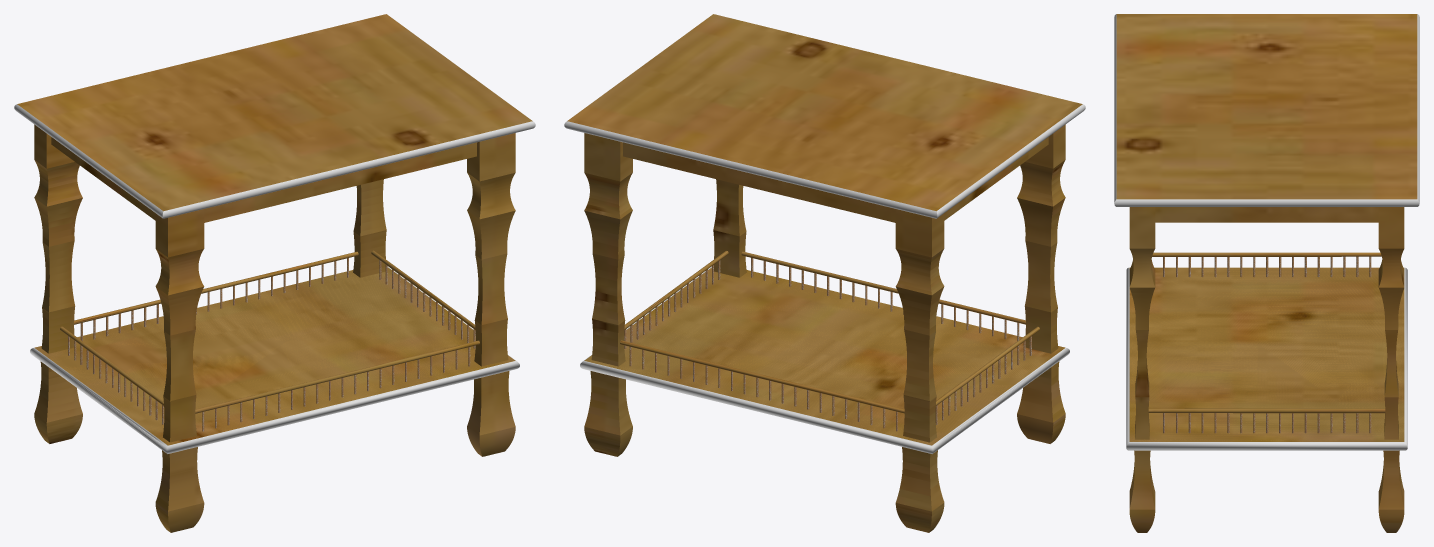
The picture shows the model from 3 angles, left to right: view 1: azimuth 30°, elevation 25°; view 2: azimuth 150°, elevation 25°; view 3: azimuth 270°, elevation 25°; orthographic projection. The views are drawn at different scales.
Parts seen in each view (by area): view 1: mesh2_mesh2-geometry, mesh1_mesh1-geometry, mesh3_mesh3-geometry; view 2: mesh2_mesh2-geometry, mesh1_mesh1-geometry, mesh3_mesh3-geometry; view 3: mesh2_mesh2-geometry, mesh1_mesh1-geometry.
Boxes of the visible parts, <box> form: mesh2_mesh2-geometry: <box>14,14,535,532</box>; mesh1_mesh1-geometry: <box>68,258,475,431</box>; mesh3_mesh3-geometry: <box>74,251,358,324</box>; mesh2_mesh2-geometry: <box>564,14,1085,532</box>; mesh1_mesh1-geometry: <box>624,258,1031,431</box>; mesh3_mesh3-geometry: <box>620,340,904,413</box>; mesh2_mesh2-geometry: <box>1114,14,1419,532</box>; mesh1_mesh1-geometry: <box>1163,256,1371,433</box>.
Size of the model in its own units: 0.6734 by 0.5753 by 0.4642.
